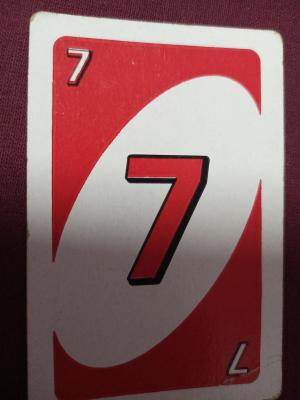num_7: (117, 145, 219, 293), (61, 40, 98, 94), (224, 334, 257, 384)
